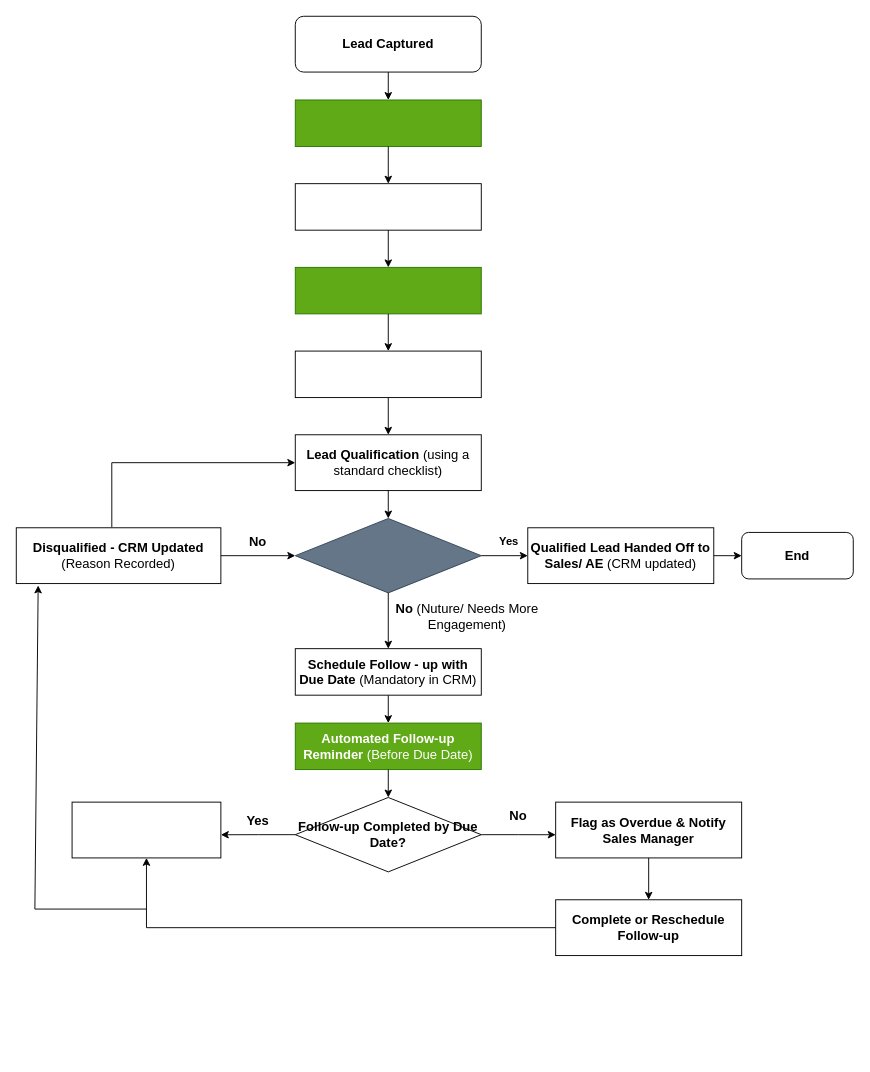
Image size: 870x1072. Some labels were removed from this diagram. Each missing label, with the box of its shape:
Automated First-Contact Reminder: (294, 266, 481, 314)
Automatic CRM Entry: (294, 99, 481, 146)
First Contact Completed (Logged in CRM): (294, 350, 481, 398)
Lead Qualified?: (294, 518, 481, 593)
Update CRM & Reassess Qualification: (71, 801, 221, 858)
